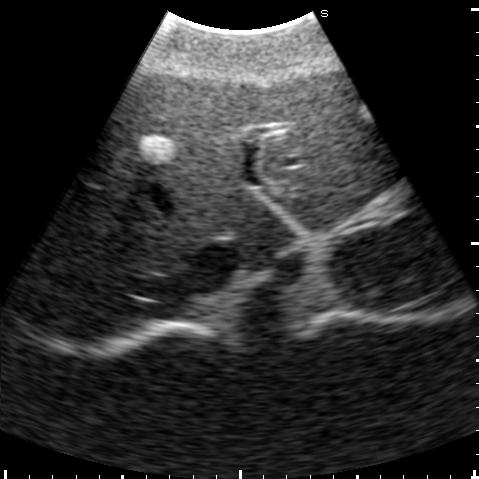IVC: (188, 241, 246, 285)
S1: (221, 190, 298, 262)
S2: (262, 161, 404, 231)
S3: (246, 69, 394, 192)
Tumor: (358, 104, 372, 123)
